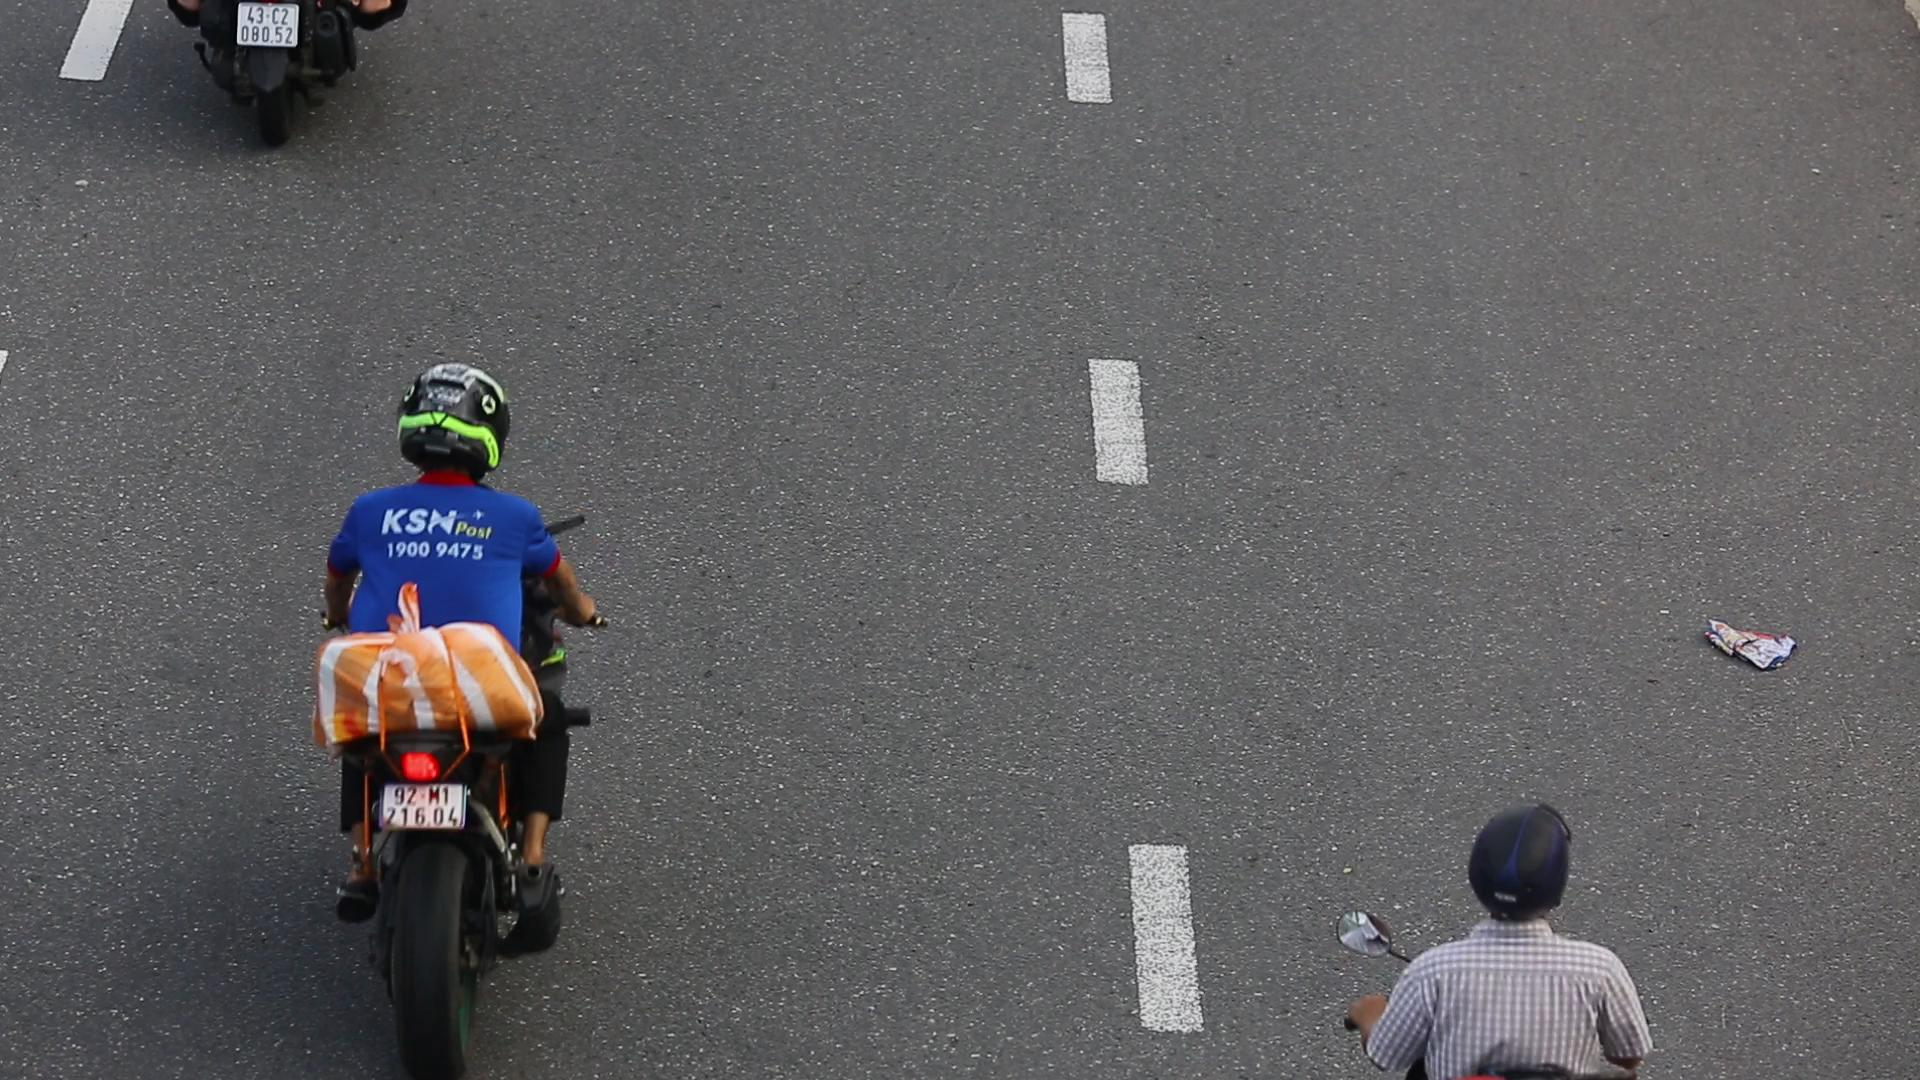motobike: (286, 335, 613, 1080)
